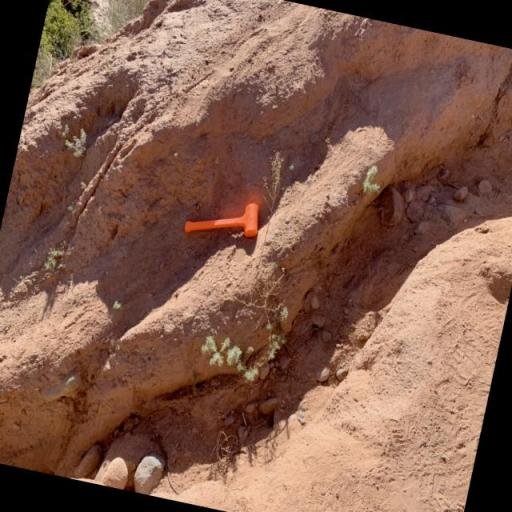mallet: (182, 189, 264, 248)
